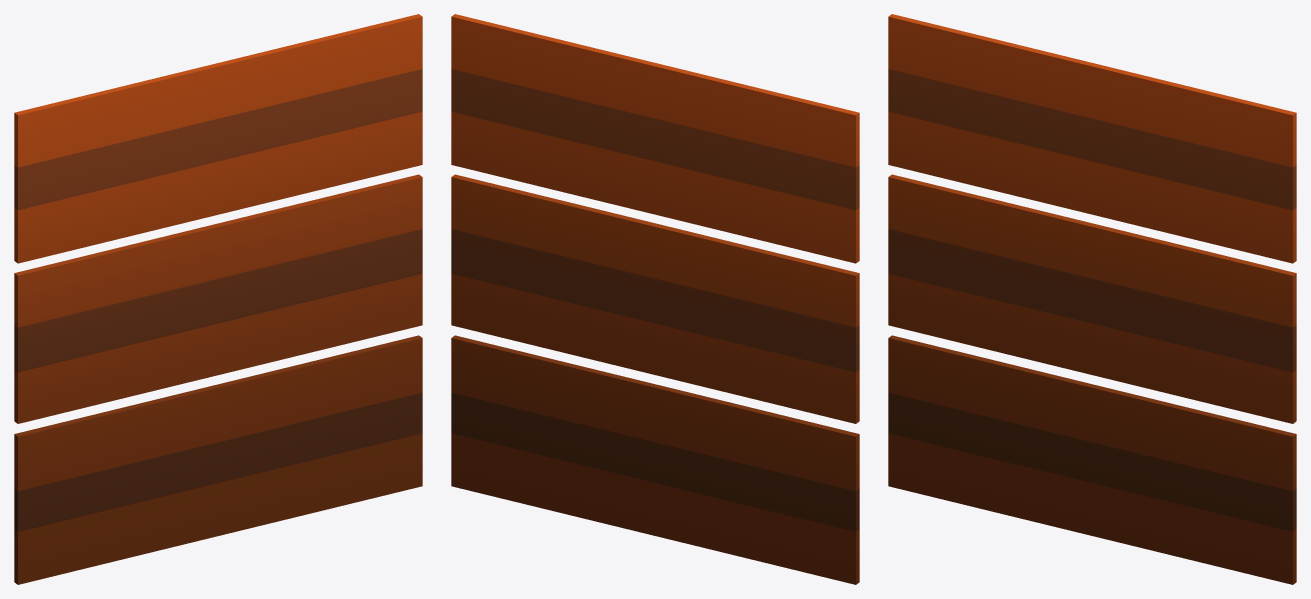
Rendered from prop_barrier_1M_red.FBX.
3 renders of one model, left to right at view 1: azimuth 30°, elevation 25°; view 2: azimuth 150°, elevation 25°; view 3: azimuth 330°, elevation 25°, orthographic.
Parts seen in each view (by area): view 1: prop_barrier_red_1M; view 2: prop_barrier_red_1M; view 3: prop_barrier_red_1M.
Boxes of the visible parts, bbox=[...] form: prop_barrier_red_1M: bbox=[14, 14, 422, 584]; prop_barrier_red_1M: bbox=[451, 14, 859, 584]; prop_barrier_red_1M: bbox=[888, 14, 1296, 584].
Bounding box in the file's own units: 39.37 × 43.66 × 0.6246.
Materials: 1 (1 with a texture image).
